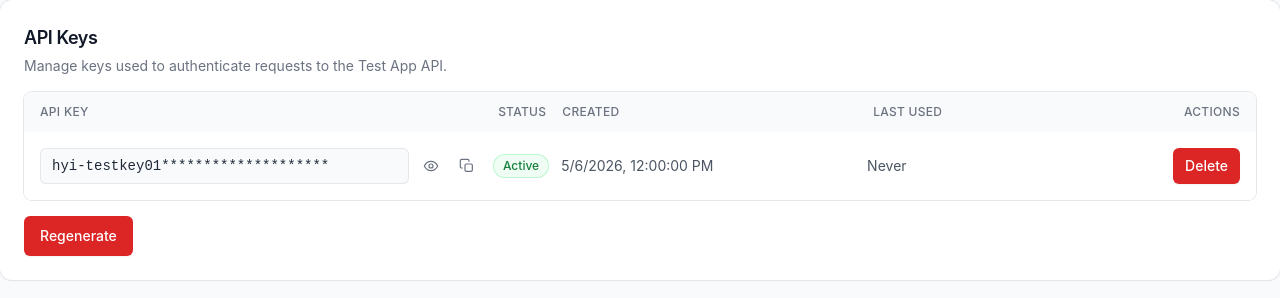
Test: ApiKeyManager reveal + copy › masks a revealable key by default and shows the full key after toggling
Expected: the text "hyi-testkey01********************" is shown, [40,148,409,184]
Expected: the text "hyi-testkey01-FULL-SECRET-VALUE" is not shown
Click the button named "Show key".
click(431, 166)  # box [417,152,445,180]
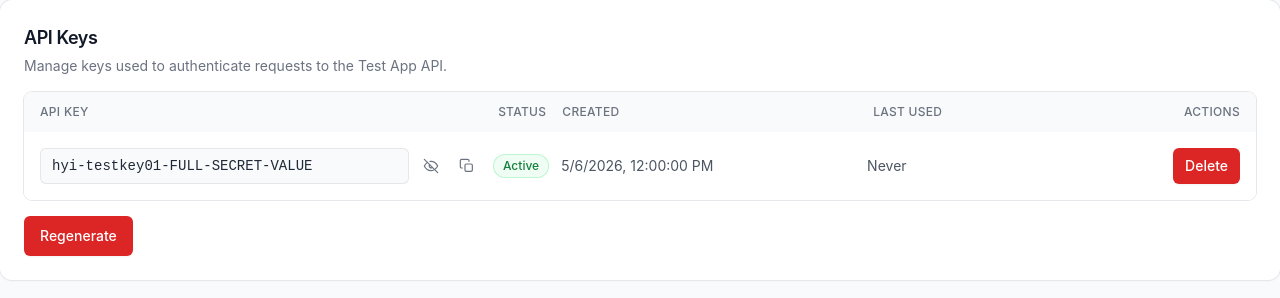
Result: the text "hyi-testkey01-FULL-SECRET-VALUE" is shown at [40,148,409,184]
Result: the text "hyi-testkey01********************" is gone
Result: the button named "Hide key" is shown at [417,152,445,180]
